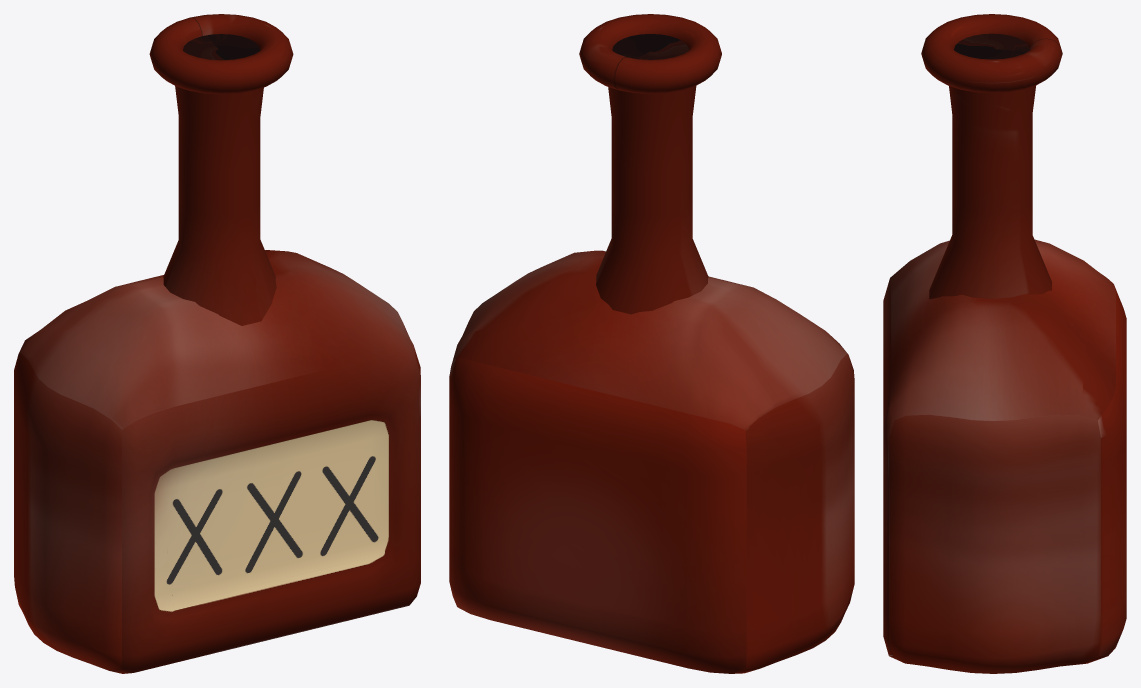
Rendered from rum.fbx.
The picture shows the model from 3 angles, left to right: view 1: azimuth 30°, elevation 25°; view 2: azimuth 150°, elevation 25°; view 3: azimuth 270°, elevation 25°; orthographic projection.
Visible parts, largest first — view 1: Cylinder001; view 2: Cylinder001; view 3: Cylinder001.
Boxes of the visible parts, box(x1,y1,x2,y2) form: Cylinder001: box(14, 14, 420, 673); Cylinder001: box(449, 14, 854, 673); Cylinder001: box(883, 14, 1126, 673).
Size of the model in its own units: 128 by 190 by 74.86.
Materials: 1 (1 with a texture image).
